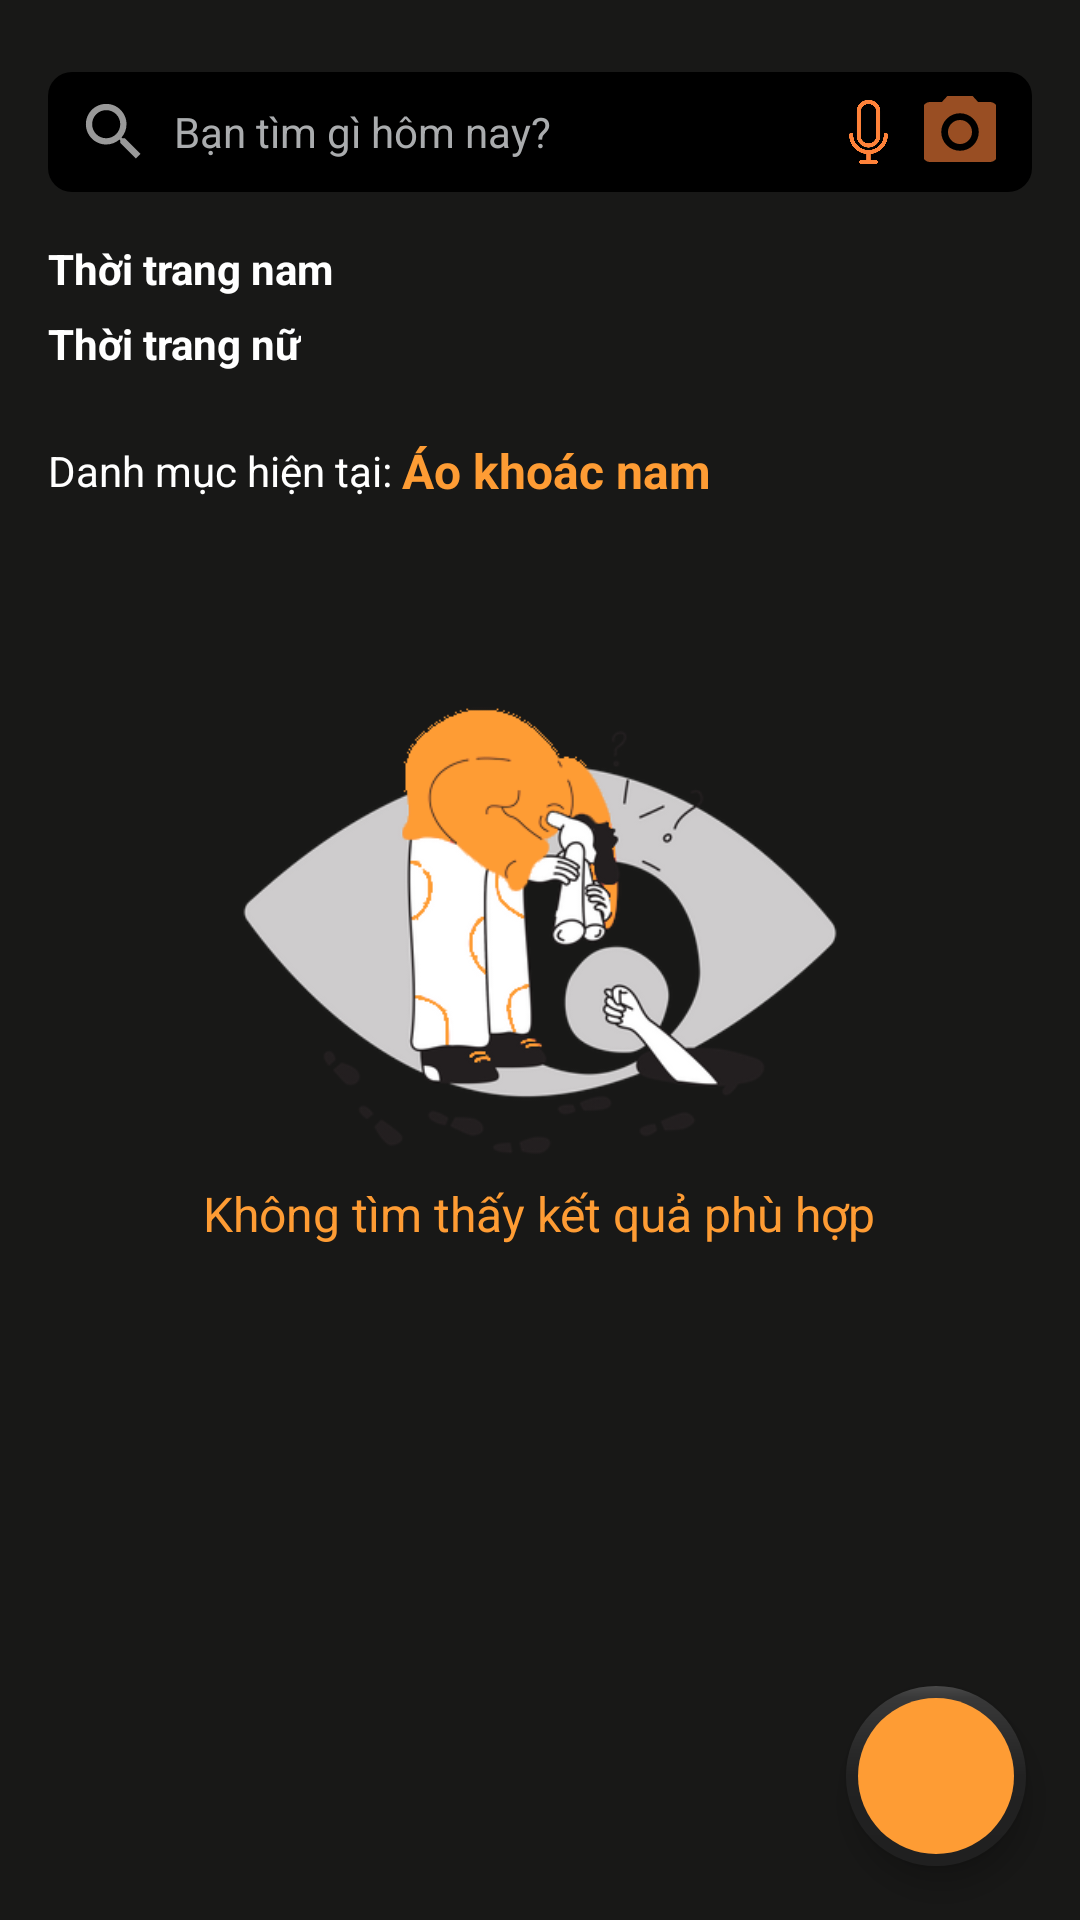

Icons on this 1080px×1920px Android screen, each with the point to tap as (x=x, y=y):
camera: (x=960, y=129)
micro: (x=868, y=132)
search: (x=113, y=131)
